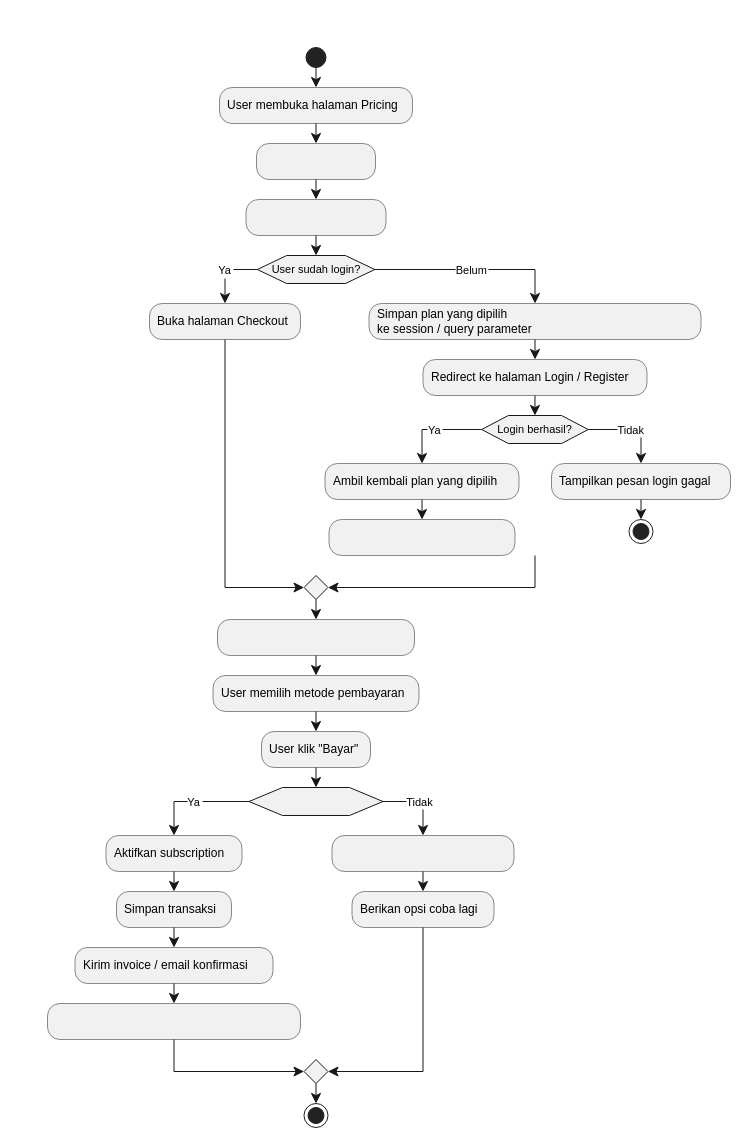
The diagram is 748 pixels wide and 1145 high, and some of its shapes have lost their labels. Each missing label, with the centre of its shape:
Klik tombol "Beli Plan": (x=315, y=217)
Pembayaran berhasil?: (x=315, y=801)
Redirect ke halaman Checkout: (x=421, y=537)
Redirect ke halaman Success / Dashboard: (x=173, y=1021)
Tampilkan detail plan dan harga: (x=315, y=637)
Tampilkan pembayaran gagal: (x=422, y=853)
User memilih plan: (x=315, y=161)
